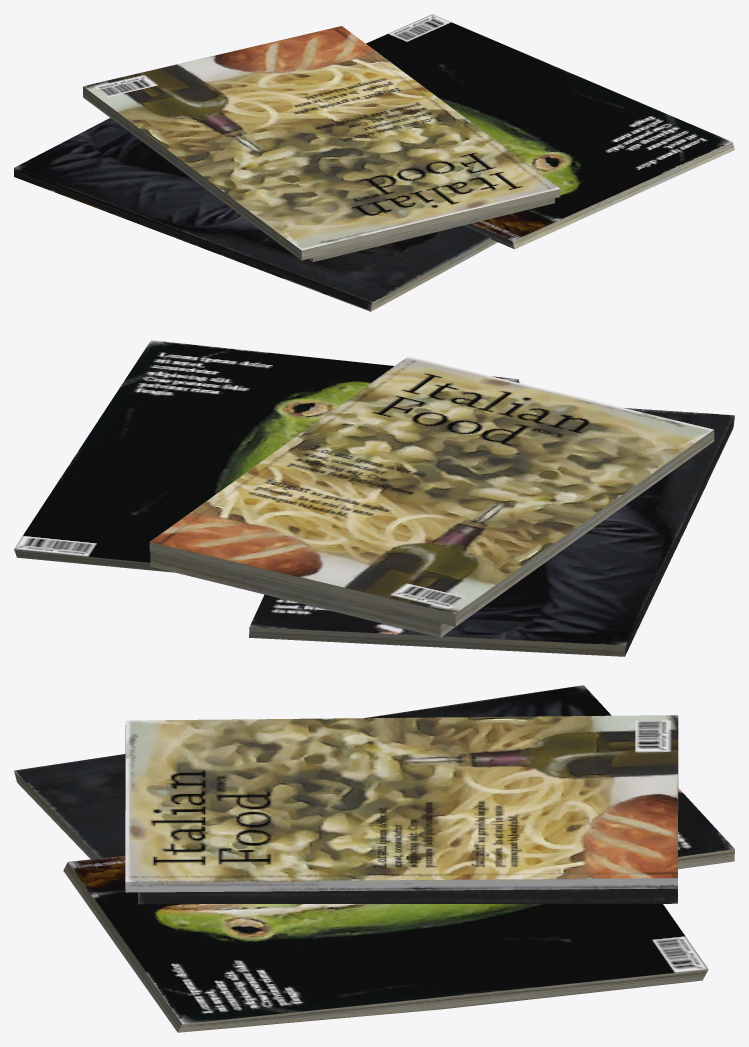
Rendered from magazine_pile04.dae.
The picture shows the model from 3 angles, top to bottom: view 1: azimuth 30°, elevation 25°; view 2: azimuth 150°, elevation 25°; view 3: azimuth 270°, elevation 25°; orthographic projection. The views are drawn at different scales.
Visible parts, largest first — view 1: magazine_pile04; view 2: magazine_pile04; view 3: magazine_pile04.
Part boxes in pixels (left/top/right/bottom): magazine_pile04: left=14, top=14, right=734, bottom=311; magazine_pile04: left=14, top=340, right=734, bottom=656; magazine_pile04: left=14, top=685, right=734, bottom=1032.
Bounding box in the file's own units: 31.19 × 2.2 × 27.49.
Materials: 1 (1 with a texture image).
